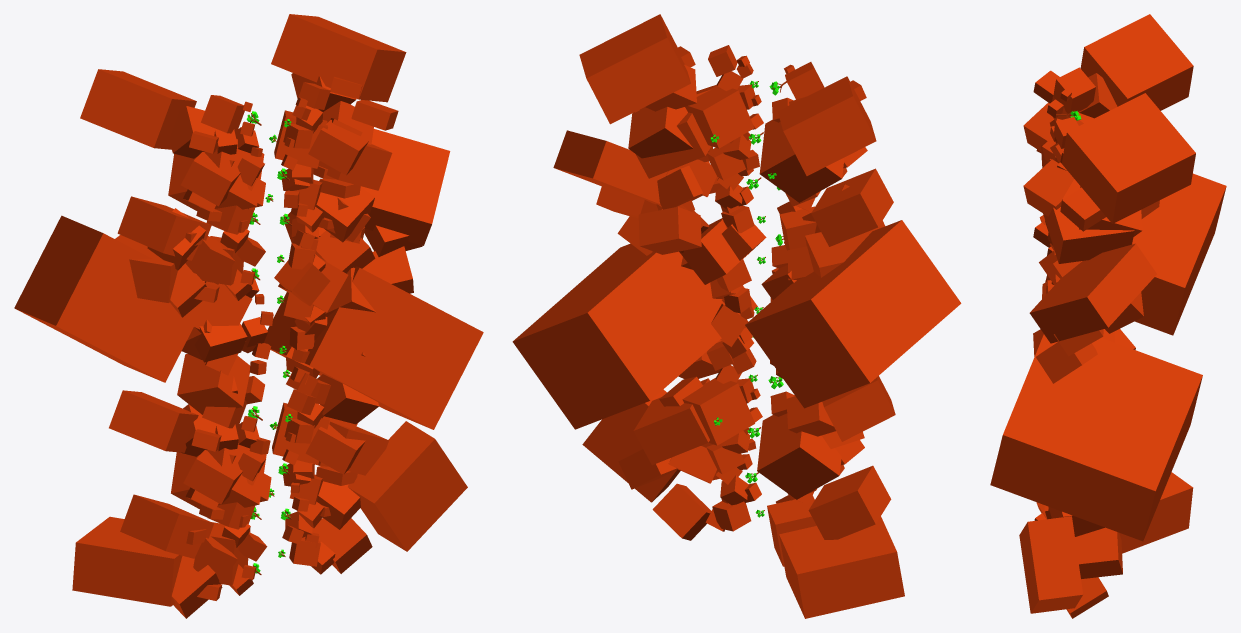
Rendered from mountain.dae.
3 renders of one model, left to right at view 1: azimuth 30°, elevation 25°; view 2: azimuth 150°, elevation 25°; view 3: azimuth 270°, elevation 25°, orthographic. The views are drawn at different scales.
Visible parts, largest first — view 1: Cube.616, Cube.573, Cube.596, Cube.635, Cube.553, Cube.621, Cube.592, Cube.567, Cube.558, Cube.583, Cube.568, Cube.585 (+37 smaller); view 2: Cube.616, Cube.573, Cube.553, Cube.635, Cube.592, Cube.560, Cube.621, Cube.583, Cube.558, Cube.601, Cube.585, Cube.596 (+30 smaller); view 3: Cube.616, Cube.635, Cube.573, Cube.621, Cube.592, Cube.596, Cube.626, Cube.553, Cube.598, Cube.636, Cube.612, Cube.320 (+11 smaller).
Part boxes in pixels (x1,y1,x2,y2): Cube.616: [264, 266, 483, 429]; Cube.573: [14, 215, 206, 382]; Cube.596: [348, 421, 467, 551]; Cube.635: [271, 14, 406, 102]; Cube.553: [72, 516, 182, 606]; Cube.621: [360, 129, 450, 245]; Cube.592: [80, 69, 196, 149]; Cube.567: [109, 390, 198, 452]; Cube.558: [120, 494, 214, 558]; Cube.583: [117, 196, 211, 260]; Cube.568: [177, 354, 250, 414]; Cube.585: [168, 139, 264, 210]; Cube.616: [512, 243, 757, 429]; Cube.573: [745, 220, 961, 408]; Cube.553: [779, 516, 904, 618]; Cube.635: [579, 14, 690, 124]; Cube.592: [777, 76, 876, 175]; Cube.560: [757, 413, 841, 499]; Cube.621: [553, 130, 667, 205]; Cube.583: [811, 168, 893, 246]; Cube.558: [808, 465, 891, 539]; Cube.601: [633, 378, 709, 465]; Cube.585: [759, 119, 844, 202]; Cube.596: [582, 389, 680, 502]; Cube.616: [990, 334, 1202, 541]; Cube.635: [1061, 93, 1195, 223]; Cube.573: [1045, 173, 1226, 335]; Cube.621: [1029, 243, 1156, 343]; Cube.592: [1080, 14, 1193, 110]; Cube.596: [1019, 516, 1083, 613]; Cube.626: [1043, 207, 1134, 263]; Cube.553: [1119, 472, 1193, 553]; Cube.598: [1075, 527, 1122, 578]; Cube.636: [1023, 159, 1073, 216]; Cube.612: [1036, 342, 1097, 383]; Cube.320: [1053, 67, 1095, 115].
Bounding box in the file's own units: 350 × 178 × 433.
